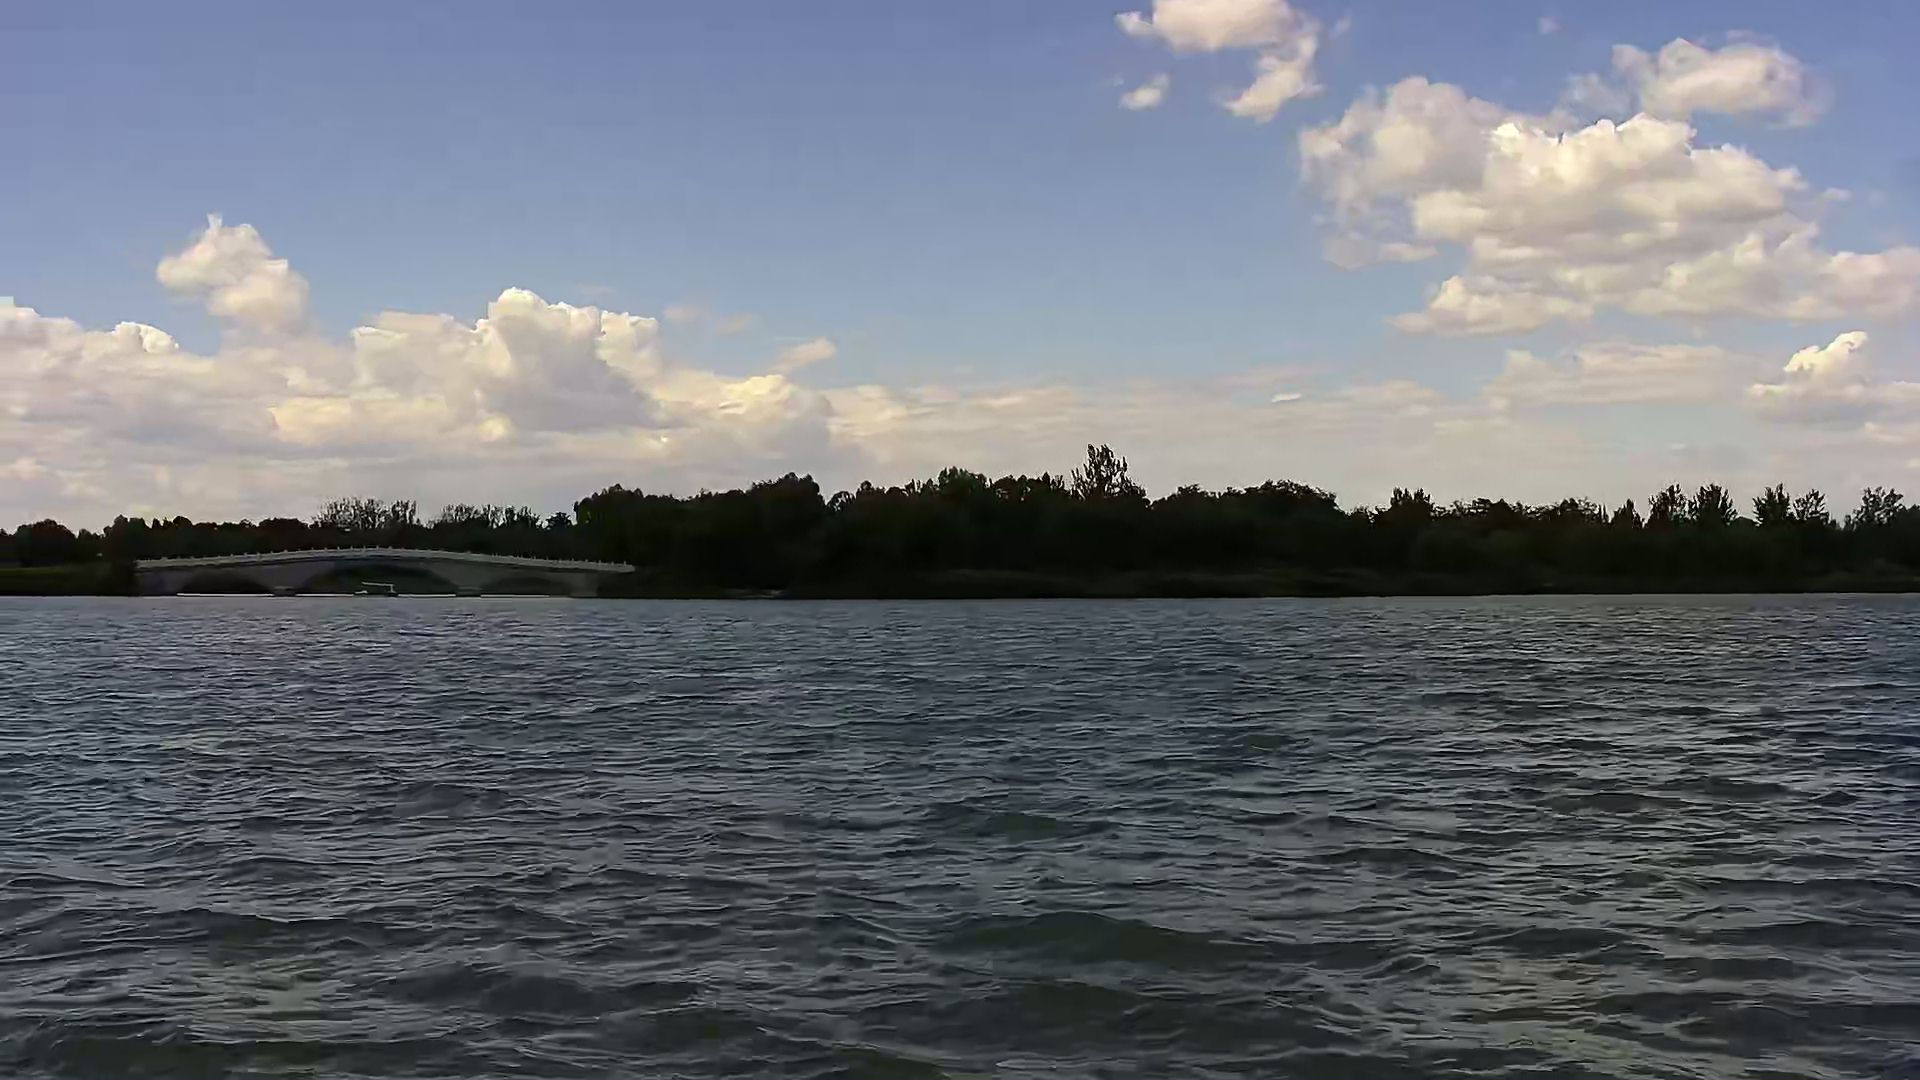bridge: (136, 533, 632, 613)
